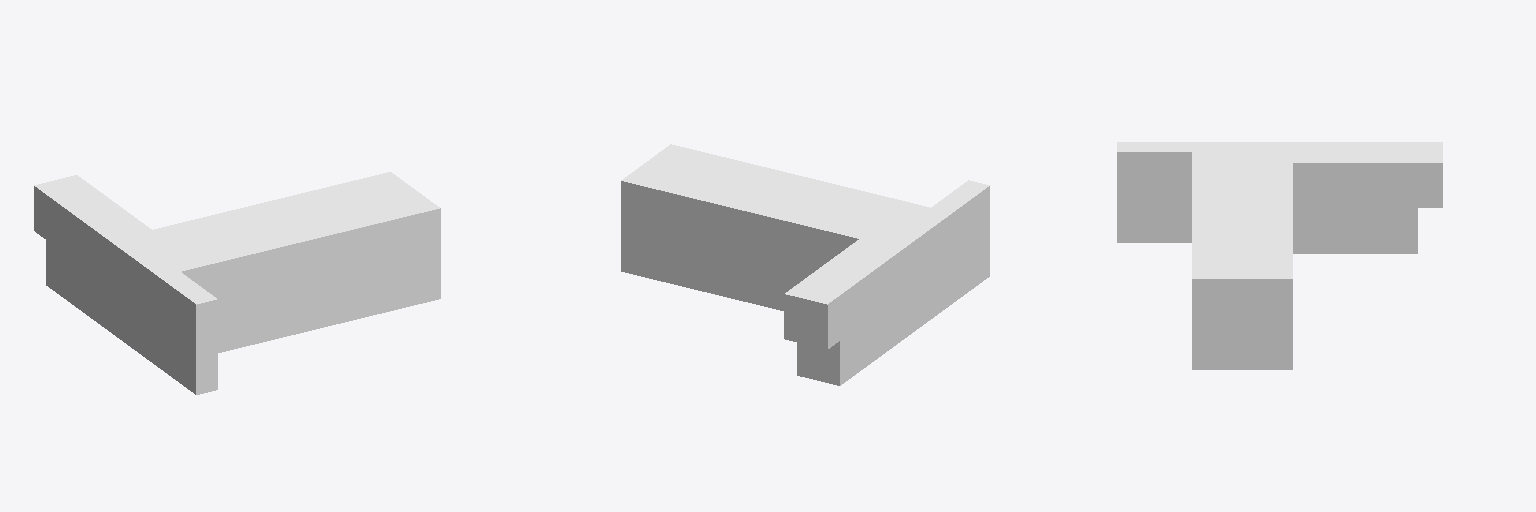
File: Hero_Left_Arm.obj
The picture shows the model from 3 angles: view 1: azimuth 30°, elevation 25°; view 2: azimuth 150°, elevation 25°; view 3: azimuth 270°, elevation 25°; orthographic projection.
Parts seen in each view (by area): view 1: object 1; view 2: object 1; view 3: object 1.
Part boxes in pixels (x1,y1,x2,y2): object 1: (34,172,440,394); object 1: (621,144,989,385); object 1: (1117,142,1442,369).
Size of the model in its own units: 1.3 by 0.4 by 1.3.